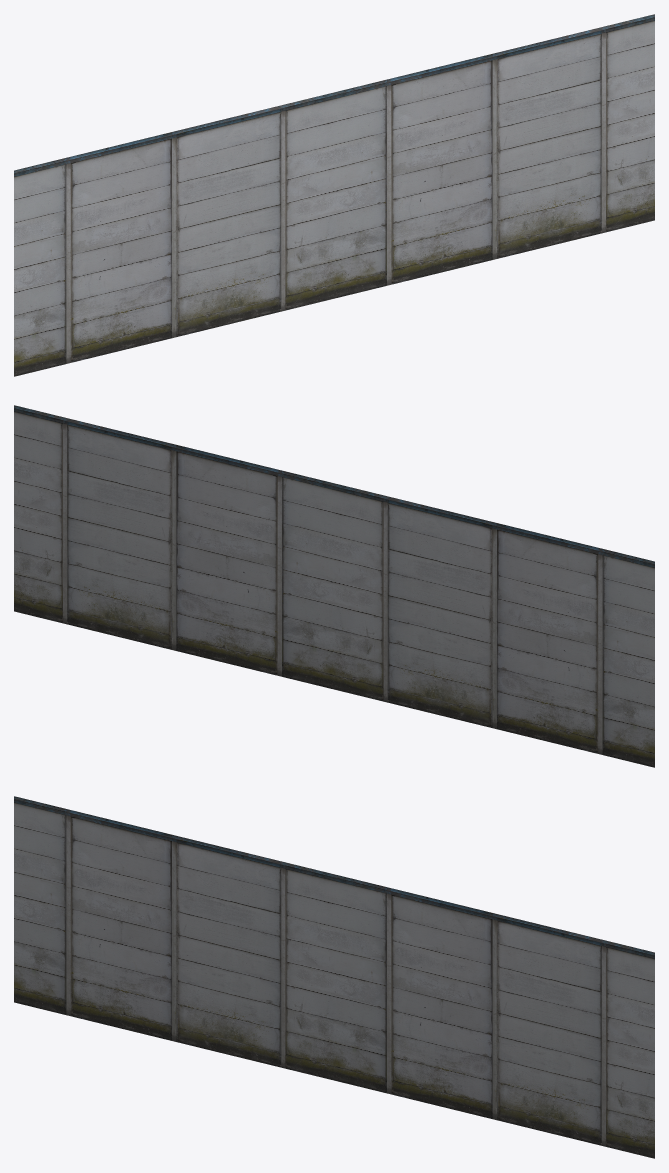
The model's file is Outer_Fence_Straight_Mobile.fbx.
3 views of the same model, one above another, from view 1: azimuth 30°, elevation 25°; view 2: azimuth 150°, elevation 25°; view 3: azimuth 330°, elevation 25° (orthographic).
Parts seen in each view (by area): view 1: Outer_Fence_Straight_Mobile; view 2: Outer_Fence_Straight_Mobile; view 3: Outer_Fence_Straight_Mobile.
Part boxes in pixels (x1=…): Outer_Fence_Straight_Mobile: x1=14, y1=14, x2=654, y2=376; Outer_Fence_Straight_Mobile: x1=14, y1=405, x2=654, y2=767; Outer_Fence_Straight_Mobile: x1=14, y1=796, x2=654, y2=1158.
Size of the model in its own units: 20 by 6.15 by 4.42e-15.
